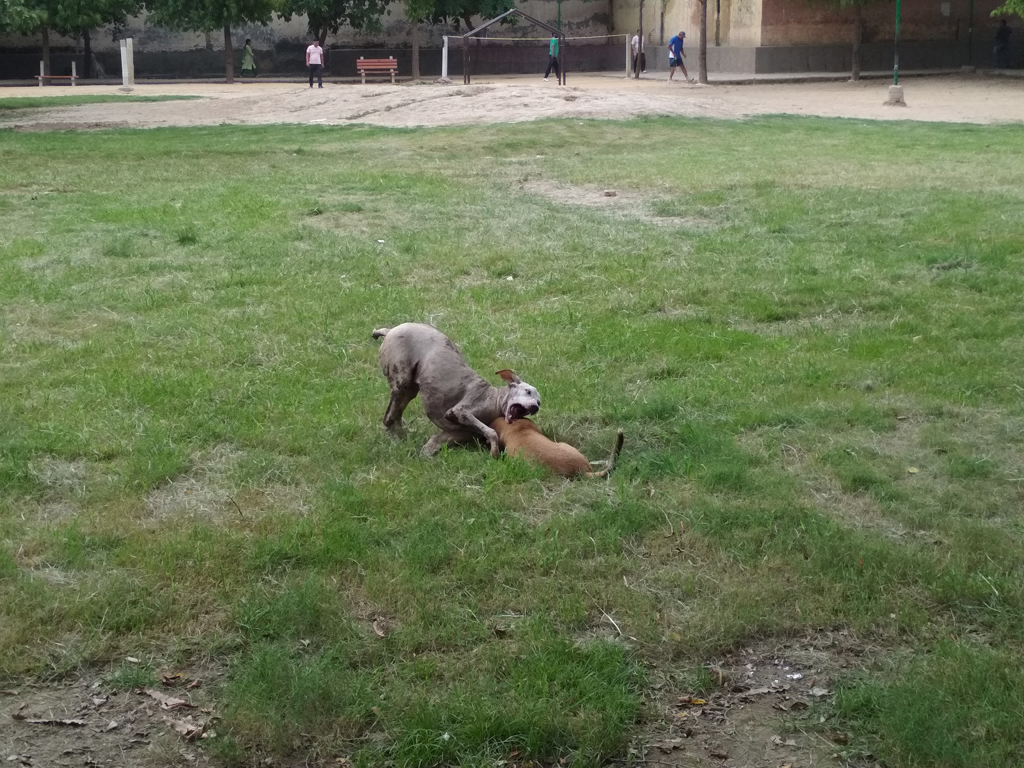dog: (370, 322, 543, 479), (485, 412, 627, 481)
